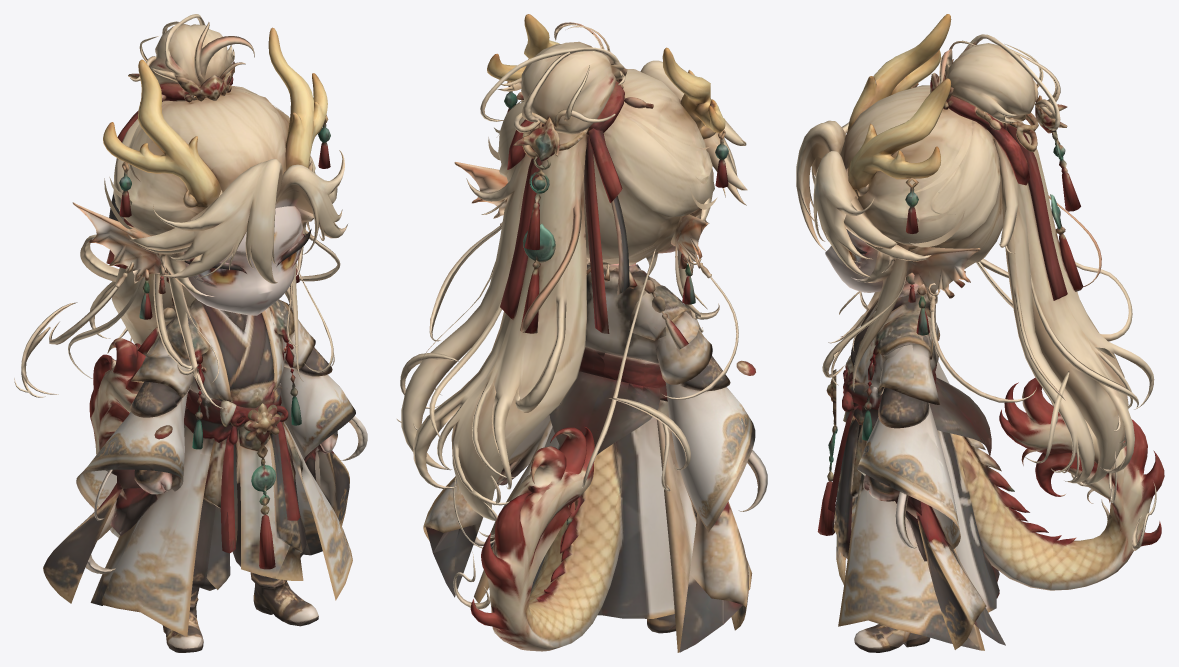
Rendered from source.glb.
3 renders of one model, left to right at view 1: azimuth 30°, elevation 25°; view 2: azimuth 150°, elevation 25°; view 3: azimuth 270°, elevation 25°, orthographic. The views are drawn at different scales.
Visible parts, largest first — view 1: tripo_part_9, tripo_part_1, tripo_part_61, tripo_part_20, tripo_part_11, tripo_part_8, tripo_part_4, tripo_part_25, tripo_part_2, tripo_part_64, tripo_part_0, tripo_part_5 (+33 smaller); view 2: tripo_part_30, tripo_part_0, tripo_part_9, tripo_part_121, tripo_part_20, tripo_part_2, tripo_part_10, tripo_part_45, tripo_part_86, tripo_part_61, tripo_part_11, tripo_part_57 (+30 smaller); view 3: tripo_part_0, tripo_part_9, tripo_part_30, tripo_part_64, tripo_part_1, tripo_part_25, tripo_part_10, tripo_part_2, tripo_part_57, tripo_part_5, tripo_part_70, tripo_part_4 (+24 smaller).
Boxes of the visible parts, x1=… form: tripo_part_9: x1=109, y1=85, x2=315, y2=236; tripo_part_1: x1=153, y1=150, x2=347, y2=381; tripo_part_61: x1=90, y1=423, x2=210, y2=636; tripo_part_20: x1=76, y1=392, x2=187, y2=539; tripo_part_11: x1=180, y1=299, x2=294, y2=407; tripo_part_8: x1=184, y1=206, x2=304, y2=330; tripo_part_4: x1=103, y1=59, x2=221, y2=213; tripo_part_25: x1=280, y1=367, x2=355, y2=488; tripo_part_2: x1=149, y1=14, x2=254, y2=85; tripo_part_64: x1=283, y1=422, x2=352, y2=600; tripo_part_0: x1=89, y1=338, x2=145, y2=537; tripo_part_5: x1=268, y1=27, x2=327, y2=170; tripo_part_30: x1=413, y1=132, x2=587, y2=520; tripo_part_0: x1=470, y1=426, x2=622, y2=651; tripo_part_9: x1=494, y1=69, x2=714, y2=265; tripo_part_121: x1=601, y1=417, x2=674, y2=618; tripo_part_20: x1=665, y1=382, x2=755, y2=532; tripo_part_2: x1=480, y1=22, x2=625, y2=134; tripo_part_10: x1=401, y1=154, x2=531, y2=470; tripo_part_45: x1=679, y1=501, x2=748, y2=652; tripo_part_86: x1=549, y1=371, x2=657, y2=454; tripo_part_61: x1=656, y1=400, x2=752, y2=652; tripo_part_11: x1=585, y1=264, x2=660, y2=363; tripo_part_57: x1=423, y1=476, x2=483, y2=597; tripo_part_0: x1=950, y1=377, x2=1164, y2=590; tripo_part_9: x1=840, y1=85, x2=1003, y2=268; tripo_part_30: x1=1005, y1=119, x2=1154, y2=484; tripo_part_64: x1=838, y1=426, x2=948, y2=642; tripo_part_1: x1=796, y1=120, x2=931, y2=392; tripo_part_25: x1=857, y1=406, x2=960, y2=561; tripo_part_10: x1=993, y1=137, x2=1094, y2=483; tripo_part_2: x1=939, y1=34, x2=1060, y2=130; tripo_part_57: x1=917, y1=504, x2=1005, y2=649; tripo_part_5: x1=848, y1=78, x2=951, y2=189; tripo_part_70: x1=937, y1=430, x2=999, y2=612; tripo_part_4: x1=848, y1=14, x2=951, y2=130.
Bounding box in the file's own units: 0.5564 × 1 × 0.574.
Materials: 1 (1 with a texture image).
